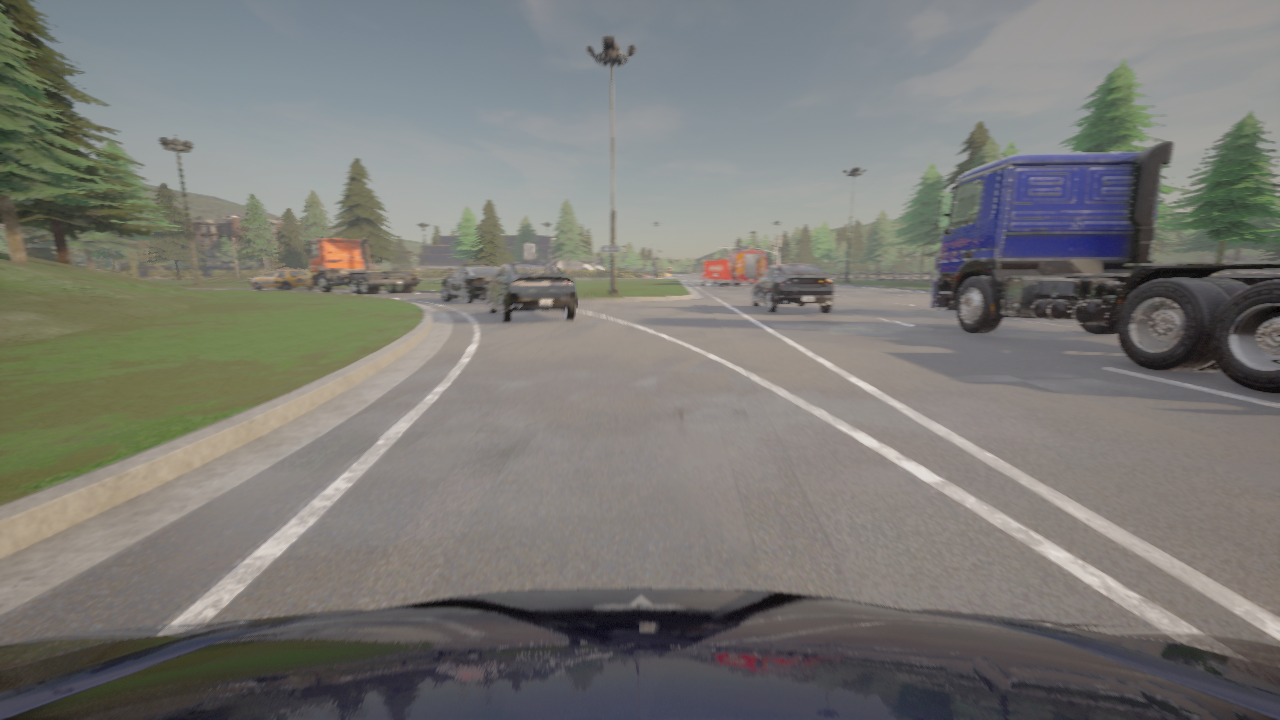cyclist: (0, 588, 1279, 719), (930, 142, 1279, 393), (306, 237, 420, 294), (484, 262, 577, 321), (752, 263, 834, 313), (442, 263, 498, 303), (725, 245, 766, 285), (249, 268, 314, 290), (700, 260, 730, 286)
